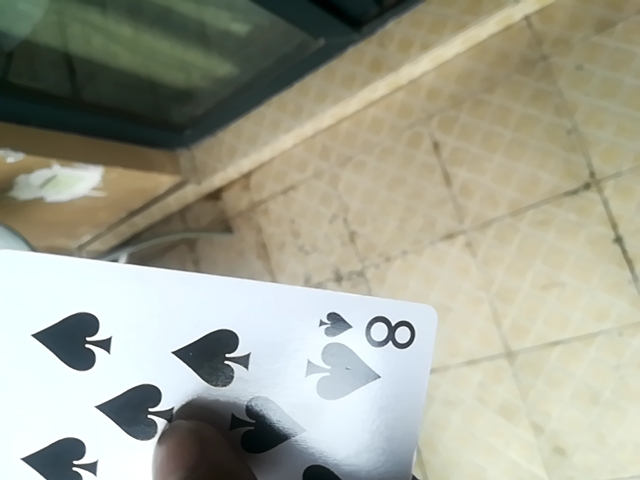ht 8: (4, 240, 448, 480)
